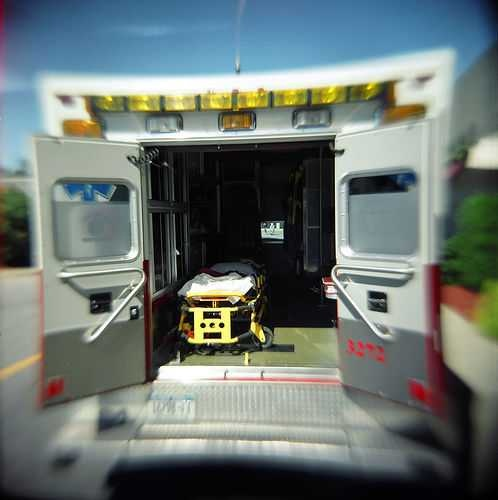Ambulance: (22, 53, 465, 474)
